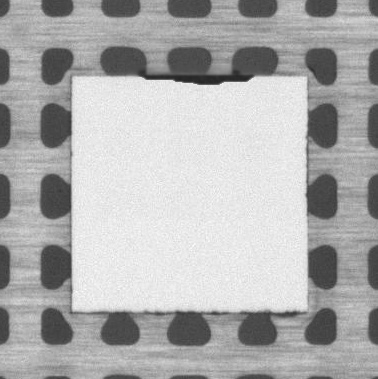DIE_BROKEN: (135, 72, 257, 88)
